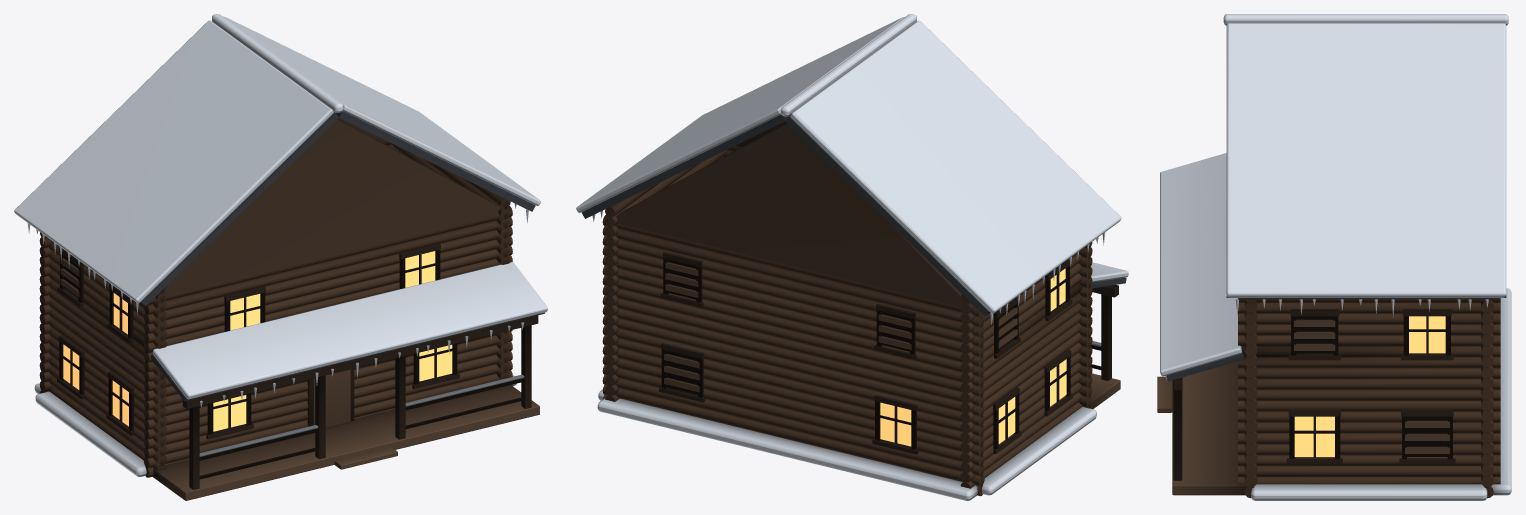
File: lodge_lantern_post.glb
3 renders of one model, left to right at view 1: azimuth 30°, elevation 25°; view 2: azimuth 150°, elevation 25°; view 3: azimuth 270°, elevation 25°, orthographic. The views are drawn at different scales.
Parts seen in each view (by area): view 1: LodgeLanternPost; view 2: LodgeLanternPost; view 3: LodgeLanternPost.
Boxes of the visible parts, x1=… form: LodgeLanternPost: x1=14, y1=14, x2=547, y2=500; LodgeLanternPost: x1=576, y1=14, x2=1128, y2=500; LodgeLanternPost: x1=1157, y1=14, x2=1511, y2=500.
Bounding box in the file's own units: 14.16 × 11.25 × 9.45.
